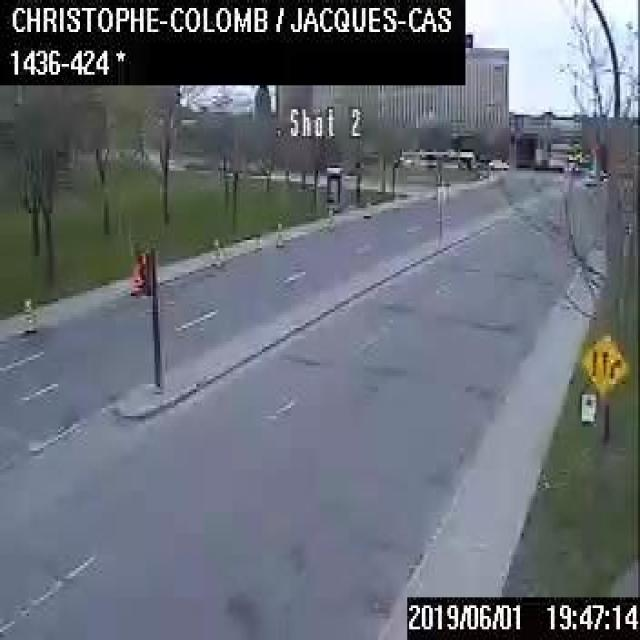bus: (399, 147, 474, 168)
construction: (22, 291, 34, 328), (129, 259, 138, 293), (276, 216, 284, 248), (327, 200, 335, 227), (213, 237, 220, 264)
vehicle: (487, 156, 508, 168), (584, 169, 596, 184)
